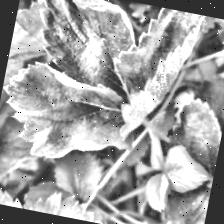Powdery Mildew Leaf: (0, 56, 145, 174), (100, 0, 208, 152), (25, 0, 148, 104)
